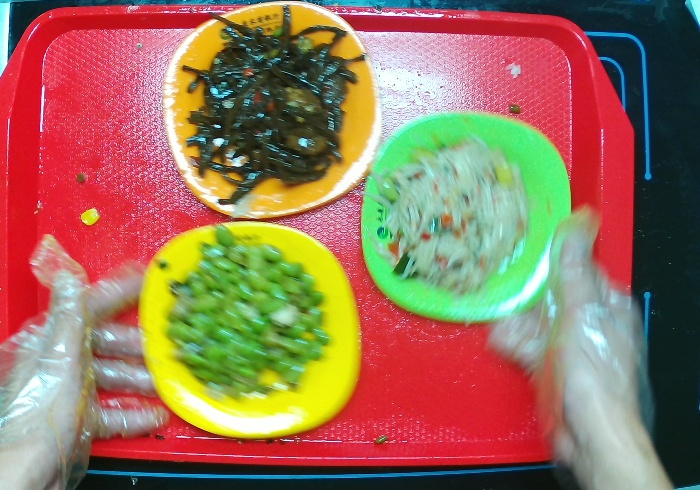YKMZ-Huang_Se_Fang_Die: (140, 220, 359, 436)
YKMZ-Ju_Se_Fang_Die: (158, 1, 385, 217)
YKMZ-Lv_Se_Fang_Die: (357, 114, 573, 321)
